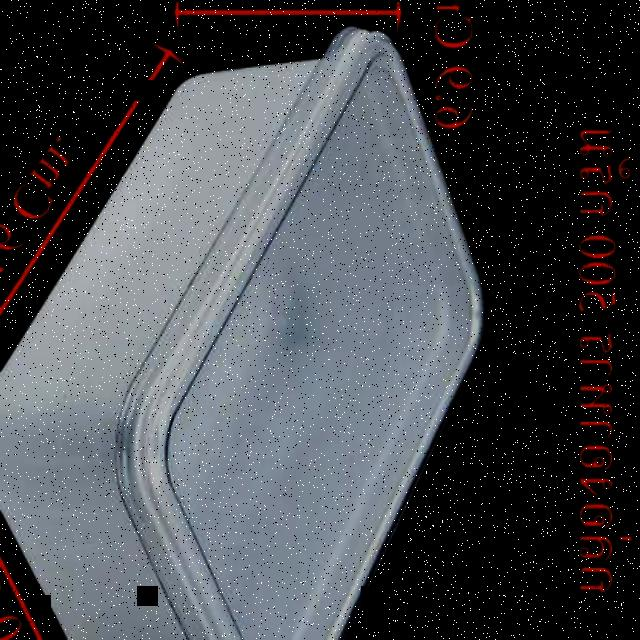plastic_box: (2, 28, 482, 640)
